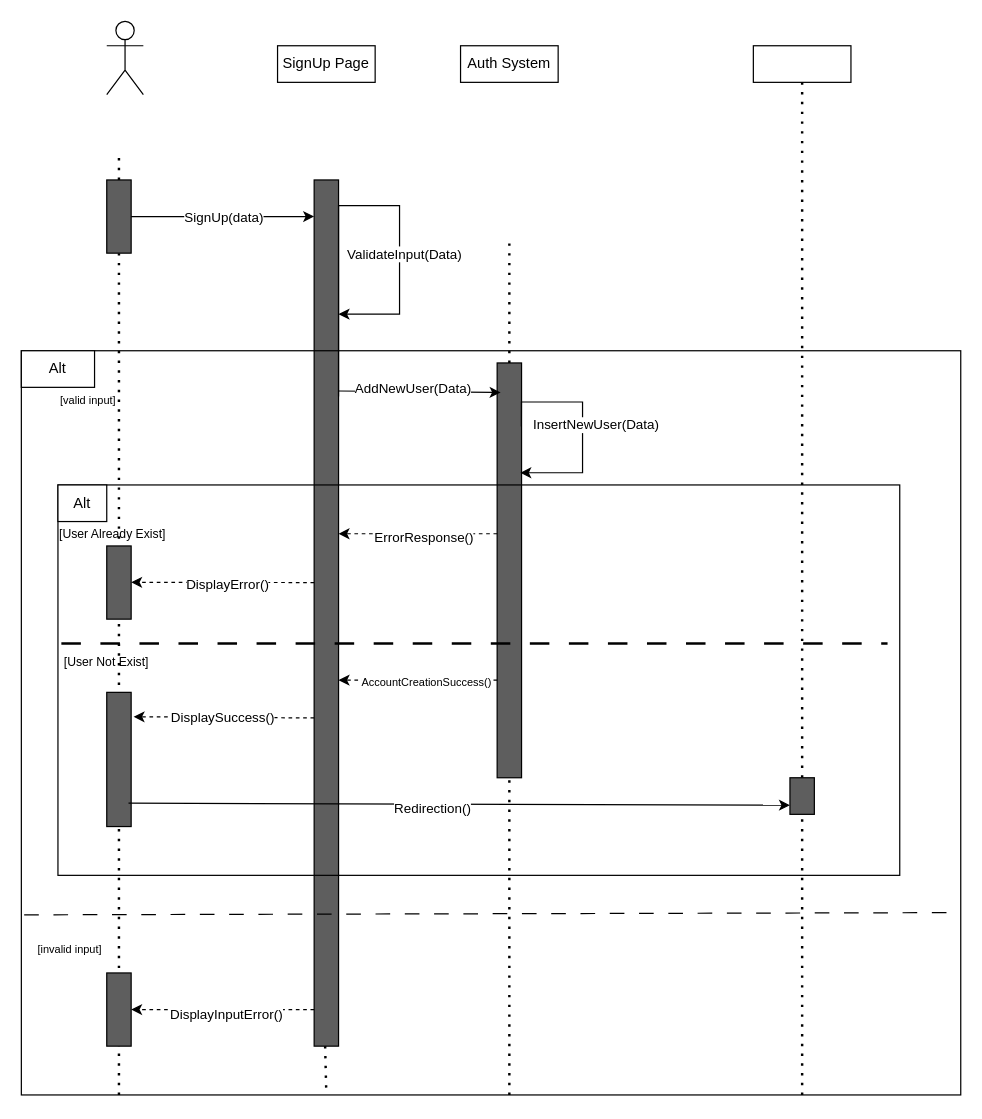
Image size: 982x1119. Some labels were removed from this diagram. Here are the shapes that lost their labels. From the top down, the centre of each, then its label:
(x=124, y=57): Customer
(x=801, y=63): Login Page
